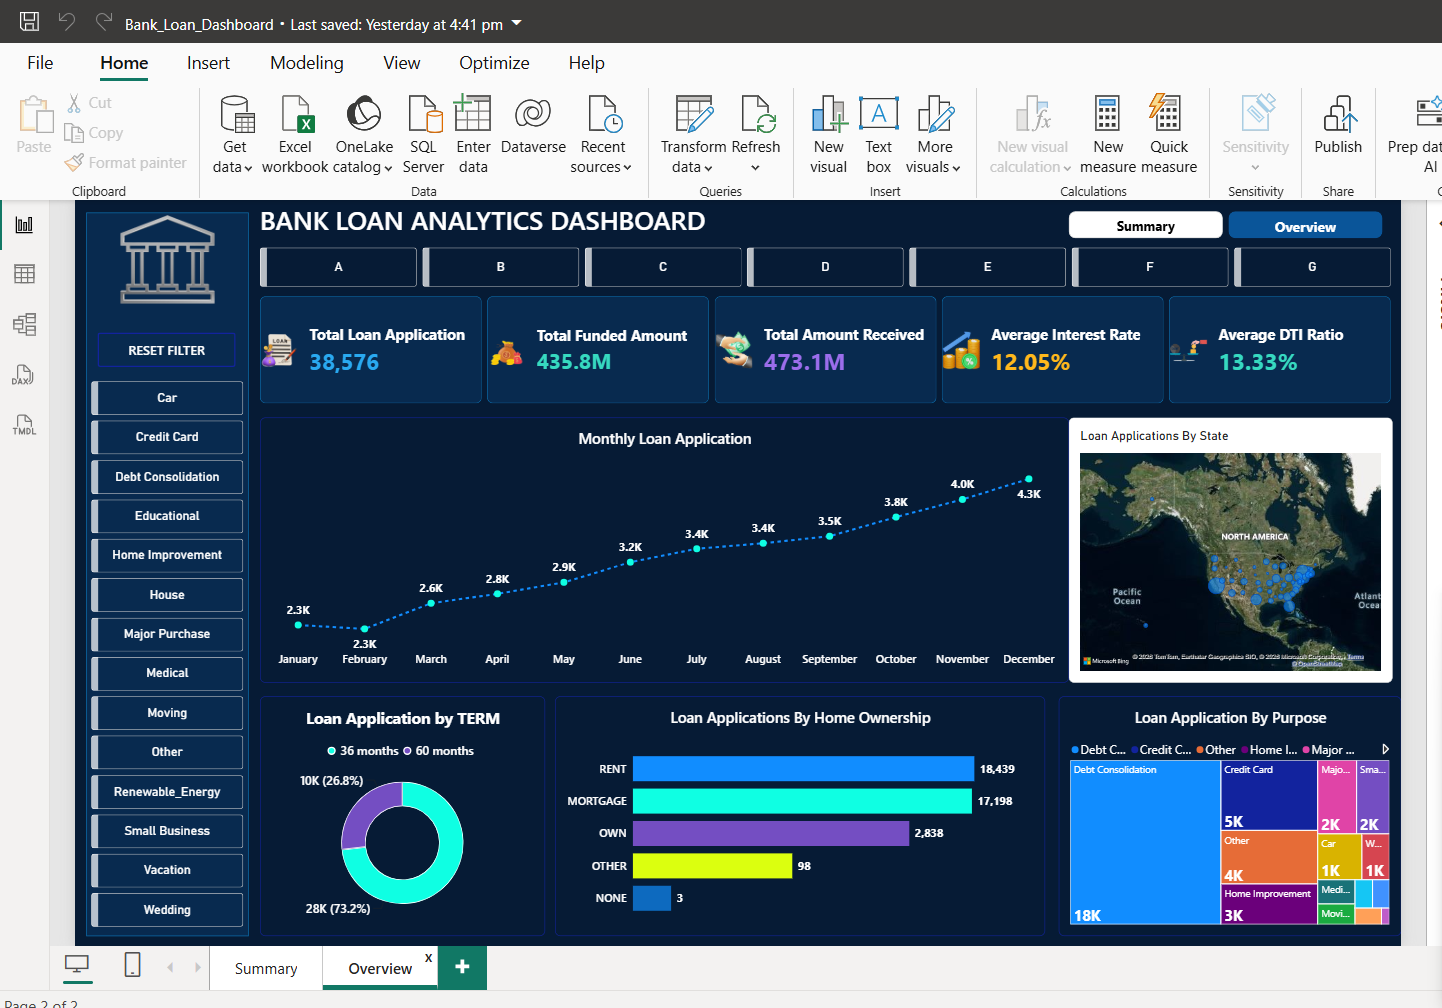

The page's visual inventory and layout, read from the dashboard file:
{"tool":"powerbi","page":{"name":"Overview ","canvas":[1920,1080],"ordinal":1},"visuals":[{"type":"textbox","box":[267.8,3.6,776.3,52.5],"z":0},{"type":"shape","box":[16.3,18.1,235.3,1047.8],"z":1000},{"type":"image","box":[23.5,18.1,220.8,135.7],"z":2000},{"type":"cardVisual","fields":{"Data":["financial_loan.Total Loan Application","financial_loan.Total Funded Amount","financial_loan.Total Amount Received","financial_loan.Average Interest Rate","financial_loan.Average DTI Ratio"]},"box":[267.6,140,1639.6,155.6],"z":3000},{"type":"pageNavigator","box":[1438.7,16.3,454.2,39.8],"z":4000},{"type":"advancedSlicerVisual","fields":{"Values":["financial_loan.PURPOSE"]},"box":[23.5,262.4,220.8,790.8],"z":15000},{"type":"advancedSlicerVisual","fields":{"Values":["financial_loan.GRADE"]},"box":[267.8,68.8,1639.6,57.9],"z":16000},{"type":"actionButton","box":[32.6,191.8,200,50],"z":17000},{"type":"lineChart","title":"Monthly Loan Application ","fields":{"Category":["financial_loan.ISSUE_DATE.Variation.Date Hierarchy.Month"],"Y":["financial_loan.Total Loan Application"]},"box":[267.8,314.9,1170.9,383.6],"z":17001},{"type":"donutChart","title":" Loan Application by TERM","fields":{"Category":["financial_loan.TERM"],"Y":["financial_loan.Total Loan Application"]},"box":[267.8,718.4,412.6,347.5],"z":17002},{"type":"clusteredBarChart","title":"Loan Applications By Home Ownership","fields":{"Category":["financial_loan.HOME_OWNERSHIP"],"Y":["financial_loan.Total Loan Application"]},"box":[694.9,718.4,709.4,347.5],"z":17003},{"type":"treemap","title":"Loan Application By Purpose","fields":{"Group":["financial_loan.PURPOSE"],"Values":["financial_loan.Total Loan Application"]},"box":[1424.2,718.4,495.8,347.5],"z":17004},{"type":"map","title":"Loan Applications By State","fields":{"Category":["financial_loan.ADDRESS_STATE"],"Size":["financial_loan.Total Loan Application"]},"box":[1439,315,469,384],"z":17005}]}

Visuals, with their boxes on the page's 1920x1080 design canvas (x1, y1, x2, y2). These are canvas units, not pixel positions in the 1442x1008 screenshot, which may show the page scaled, cropped or inside an application window:
textbox: x1=268, y1=4, x2=1044, y2=56
shape: x1=16, y1=18, x2=252, y2=1066
image: x1=24, y1=18, x2=244, y2=154
cardVisual - financial_loan.Total Loan Application x financial_loan.Total Funded Amount: x1=268, y1=140, x2=1907, y2=296
pageNavigator: x1=1439, y1=16, x2=1893, y2=56
advancedSlicerVisual - financial_loan.PURPOSE: x1=24, y1=262, x2=244, y2=1053
advancedSlicerVisual - financial_loan.GRADE: x1=268, y1=69, x2=1907, y2=127
actionButton: x1=33, y1=192, x2=233, y2=242
"Monthly Loan Application " lineChart: x1=268, y1=315, x2=1439, y2=698
" Loan Application by TERM" donutChart: x1=268, y1=718, x2=680, y2=1066
"Loan Applications By Home Ownership" clusteredBarChart: x1=695, y1=718, x2=1404, y2=1066
"Loan Application By Purpose" treemap: x1=1424, y1=718, x2=1920, y2=1066
"Loan Applications By State" map: x1=1439, y1=315, x2=1908, y2=699
